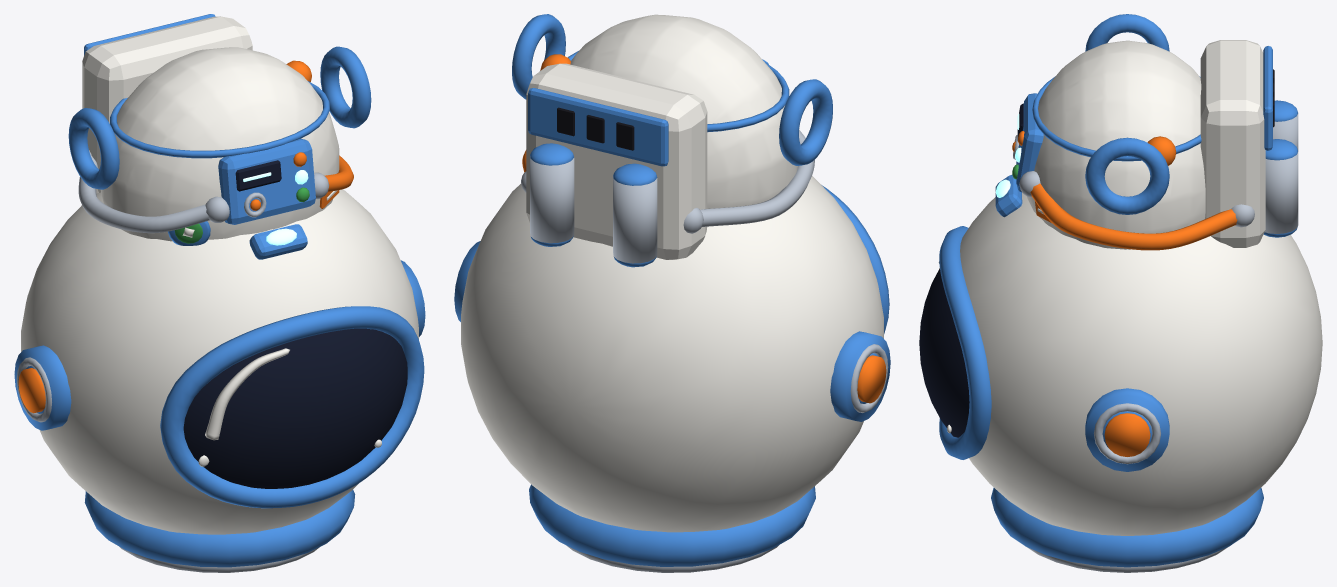
File: astronaut.glb
3 views of the same model, side by side, from view 1: azimuth 30°, elevation 25°; view 2: azimuth 150°, elevation 25°; view 3: azimuth 270°, elevation 25° (orthographic). The views are drawn at different scales.
Visible parts, largest first — view 1: astronaut_Head, astronaut_Body; view 2: astronaut_Head, astronaut_Body; view 3: astronaut_Head, astronaut_Body.
Boxes of the visible parts, x1,y1,x2,y2 form: astronaut_Head: [14, 60, 425, 572]; astronaut_Body: [68, 14, 371, 245]; astronaut_Head: [454, 54, 890, 572]; astronaut_Body: [512, 14, 832, 267]; astronaut_Head: [919, 136, 1322, 572]; astronaut_Body: [1012, 14, 1298, 250].
Bounding box in the file's own units: 0.272 × 0.3226 × 0.248.
